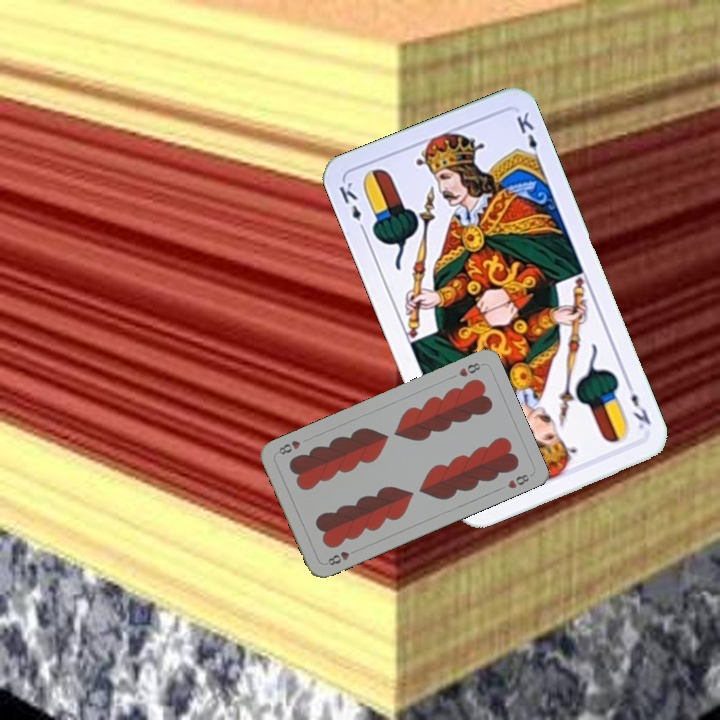EK: (335, 177, 369, 236), (622, 378, 654, 432)
H8: (321, 545, 360, 568), (455, 358, 485, 379)
